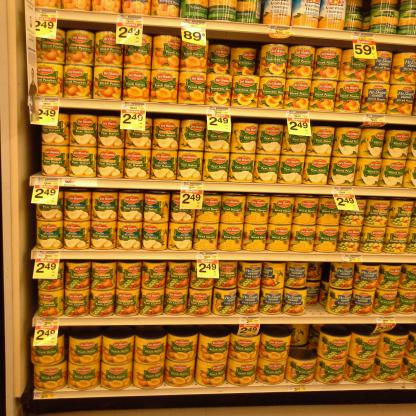Void: (308, 266, 331, 310), (293, 328, 312, 358)
